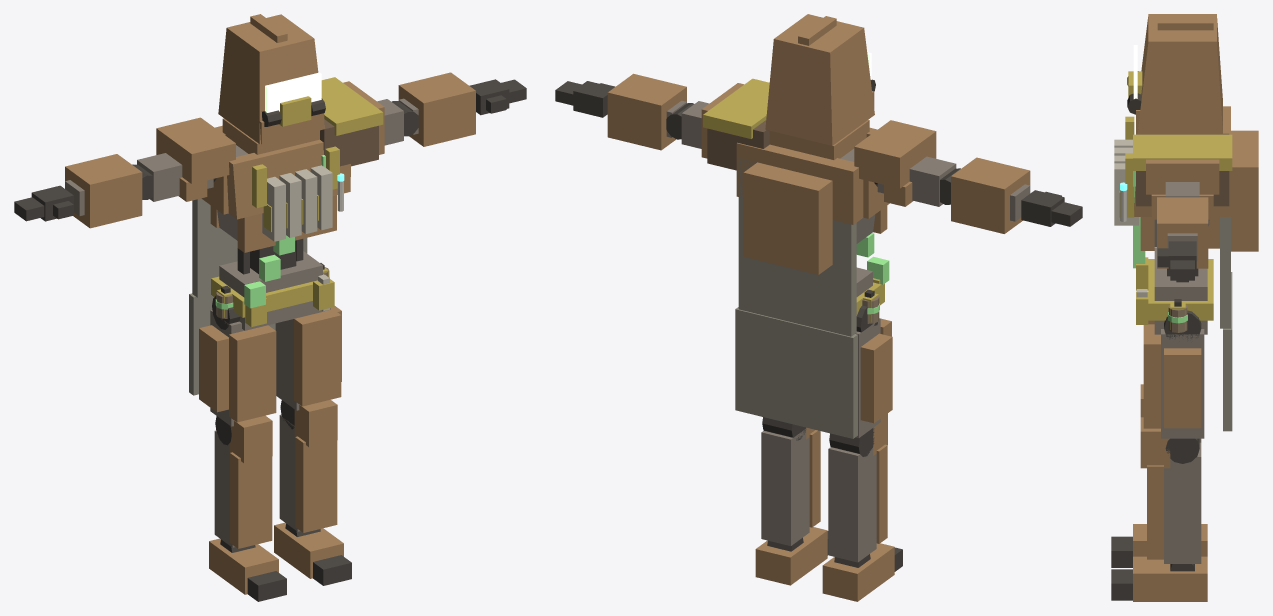
The model's file is char_P_rifleman.glb.
3 renders of one model, left to right at view 1: azimuth 30°, elevation 25°; view 2: azimuth 150°, elevation 25°; view 3: azimuth 270°, elevation 25°, orthographic. The views are drawn at different scales.
Parts seen in each view (by area): view 1: Head_mesh, UpperChest_mesh, RightUpperLeg_mesh, RightLowerLeg_mesh, LeftLowerLeg_mesh, Hips_mesh, LeftUpperLeg_mesh, RightUpperArm_mesh, RightLowerArm_mesh, LeftLowerArm_mesh, LeftShoulder_mesh, Chest_mesh (+12 smaller); view 2: UpperChest_mesh, Hips_mesh, Head_mesh, RightLowerLeg_mesh, LeftLowerLeg_mesh, RightUpperArm_mesh, RightLowerArm_mesh, LeftLowerArm_mesh, LeftShoulder_mesh, RightUpperLeg_mesh, RightFoot_mesh, LeftFoot_mesh (+4 smaller); view 3: Head_mesh, LeftLowerLeg_mesh, LeftUpperLeg_mesh, UpperChest_mesh, Hips_mesh, LeftShoulder_mesh, LeftFoot_mesh, LeftUpperArm_mesh, LeftLowerArm_mesh, LeftHand_mesh, Chest_mesh, LeftToes_mesh (+5 smaller).
Part boxes in pixels (<box>): Head_mesh: <box>218,14,325,144</box>; UpperChest_mesh: <box>192,118,350,297</box>; RightUpperLeg_mesh: <box>199,295,276,426</box>; RightLowerLeg_mesh: <box>214,415,272,548</box>; LeftLowerLeg_mesh: <box>279,400,337,532</box>; Hips_mesh: <box>189,251,334,395</box>; LeftUpperLeg_mesh: <box>275,306,341,410</box>; RightUpperArm_mesh: <box>137,117,235,201</box>; RightLowerArm_mesh: <box>65,154,152,228</box>; LeftLowerArm_mesh: <box>391,72,475,146</box>; LeftShoulder_mesh: <box>320,77,383,166</box>; Chest_mesh: <box>210,195,336,308</box>; UpperChest_mesh: <box>736,120,889,336</box>; Hips_mesh: <box>735,267,884,438</box>; Head_mesh: <box>765,14,875,145</box>; RightLowerLeg_mesh: <box>828,413,887,562</box>; LeftLowerLeg_mesh: <box>761,417,820,545</box>; RightUpperArm_mesh: <box>854,120,956,206</box>; RightLowerArm_mesh: <box>940,157,1030,233</box>; LeftLowerArm_mesh: <box>607,73,693,150</box>; LeftShoulder_mesh: <box>703,78,769,170</box>; RightUpperLeg_mesh: <box>855,305,892,437</box>; RightFoot_mesh: <box>822,543,894,601</box>; LeftFoot_mesh: <box>755,527,827,585</box>; Head_mesh: <box>1127,14,1222,134</box>; LeftLowerLeg_mesh: <box>1140,417,1201,563</box>; LeftUpperLeg_mesh: <box>1143,310,1204,438</box>; UpperChest_mesh: <box>1119,106,1258,328</box>; Hips_mesh: <box>1136,247,1232,431</box>; LeftShoulder_mesh: <box>1133,133,1232,206</box>; LeftFoot_mesh: <box>1133,556,1207,601</box>; LeftUpperArm_mesh: <box>1146,159,1219,215</box>; LeftLowerArm_mesh: <box>1157,197,1208,268</box>; LeftHand_mesh: <box>1157,241,1196,280</box>; Chest_mesh: <box>1133,217,1219,268</box>; LeftToes_mesh: <box>1111,569,1132,600</box>.
Bounding box in the file's own units: 1.92 × 1.97 × 0.475.
